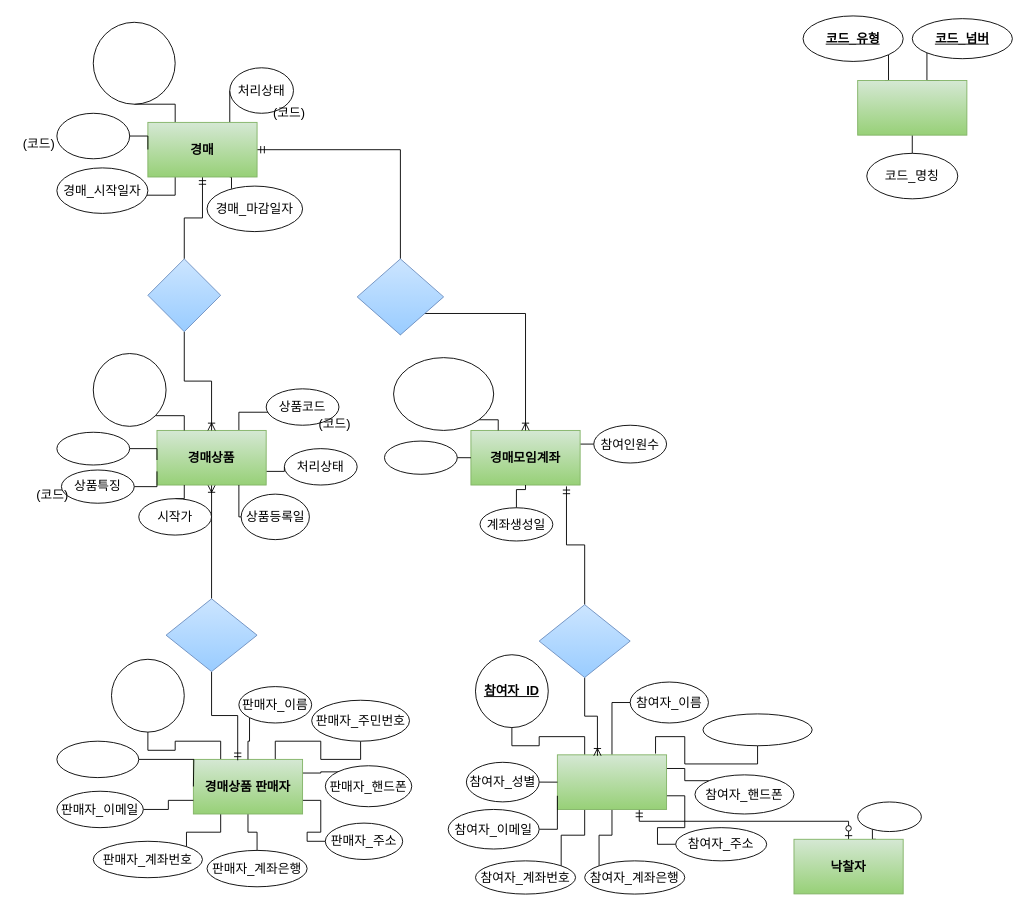
This 1028x910 diagram has some shape labels left out. Here are the shapes that lost their labels. From the top down, the centre of each, then its label:
At pixel 133 62: "경매_회차".
At pixel 912 107: "코드".
At pixel 93 135: "입찰방식".
At pixel 184 295: "열린다 / 구성".
At pixel 400 296: "생성된다 / 구성".
At pixel 129 389: "상품_번호".
At pixel 443 393: "경매_계좌번호".
At pixel 93 448: "상품명".
At pixel 420 457: "계좌이름".
At pixel 211 635: "출품한다 / 구성".
At pixel 584 640: "참여한다 / 구성".
At pixel 147 695: "판매자_ID".
At pixel 757 729: "참여자_주민번호".
At pixel 97 759: "판매자_성별".
At pixel 611 781: "경매참여자".
At pixel 889 816: "낙찰가".
